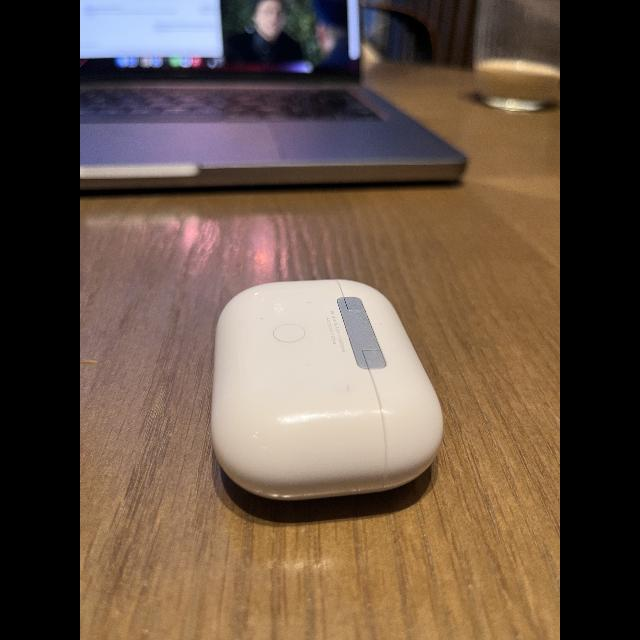AirPods Pro: (216, 278, 448, 514)
